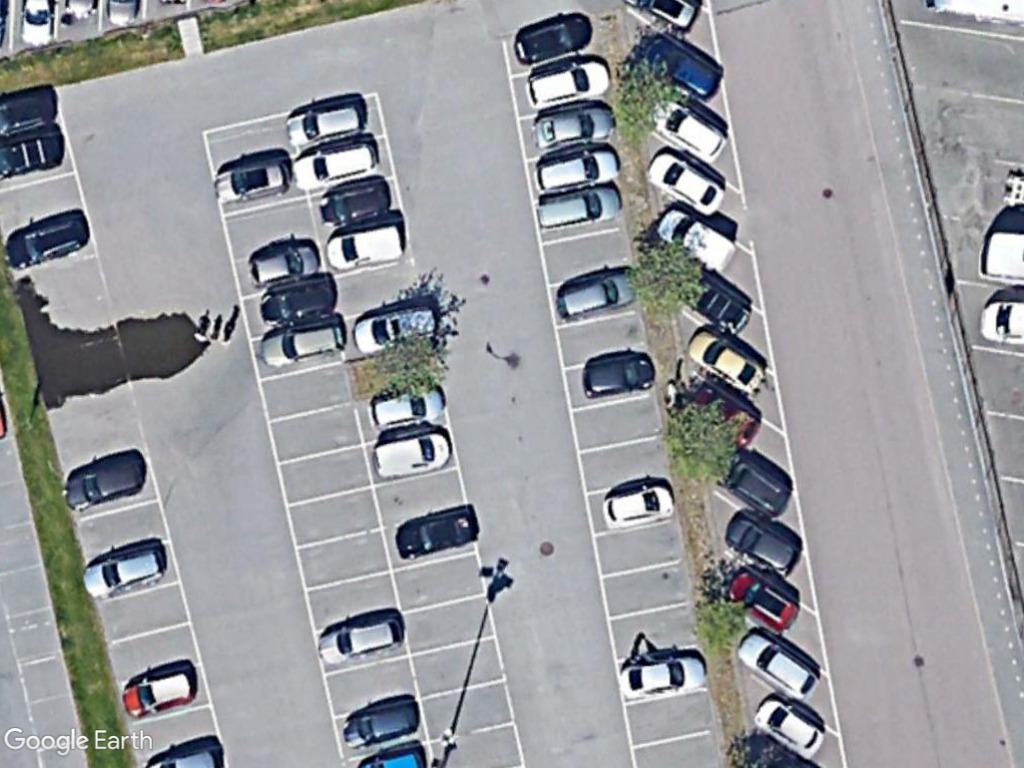car: (681, 318, 773, 404), (735, 627, 827, 709), (76, 535, 173, 610), (646, 90, 737, 167), (722, 502, 808, 581), (283, 131, 384, 197), (311, 608, 411, 674), (610, 646, 711, 709), (2, 207, 91, 276), (255, 312, 355, 373), (519, 54, 618, 114), (390, 501, 481, 565), (549, 266, 642, 328), (643, 149, 728, 216), (750, 689, 826, 763), (110, 667, 203, 727), (348, 298, 441, 358), (58, 452, 147, 514), (337, 692, 424, 755), (532, 181, 629, 237), (315, 174, 397, 239), (365, 376, 458, 432), (322, 214, 410, 273), (256, 270, 344, 329), (368, 424, 460, 480), (509, 14, 600, 70), (205, 151, 292, 209), (526, 97, 619, 151), (282, 97, 371, 153), (575, 345, 664, 401), (533, 141, 628, 193), (239, 234, 326, 286), (595, 477, 676, 531)
van: (658, 203, 735, 276)
